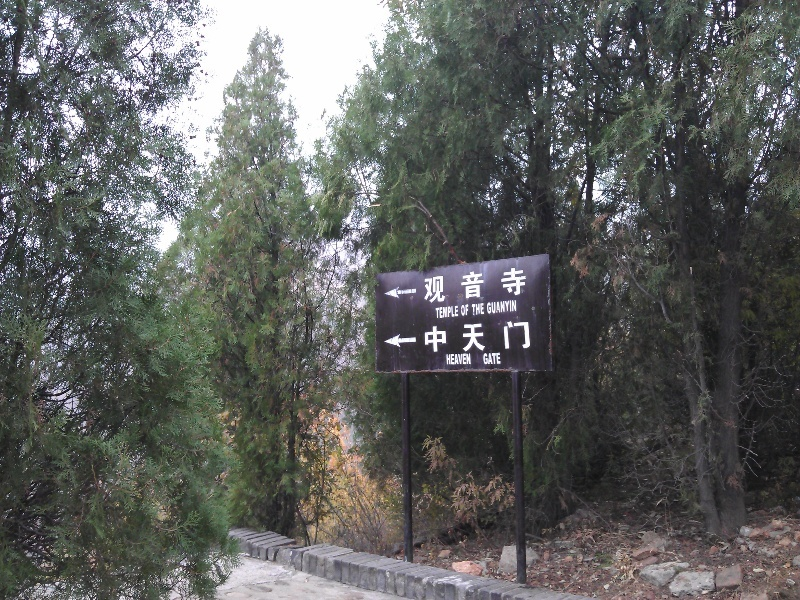text: (433, 266, 448, 304), (449, 266, 464, 304), (465, 266, 480, 304), (481, 266, 496, 304), (497, 266, 512, 304), (513, 266, 527, 304), (433, 321, 448, 354), (449, 321, 464, 354), (465, 321, 480, 354), (481, 321, 496, 354), (497, 321, 512, 354), (513, 321, 528, 354), (424, 266, 432, 304), (424, 321, 432, 354), (497, 300, 512, 314), (449, 353, 464, 366), (436, 306, 448, 319), (483, 353, 496, 365), (486, 300, 496, 314), (449, 306, 459, 319), (472, 303, 480, 316), (529, 321, 532, 354), (465, 353, 471, 366), (513, 300, 518, 314), (465, 304, 470, 317), (497, 353, 502, 365), (481, 303, 485, 316), (445, 353, 448, 366), (461, 304, 464, 317)
